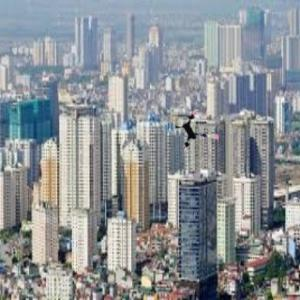drone: (172, 108, 223, 159)
